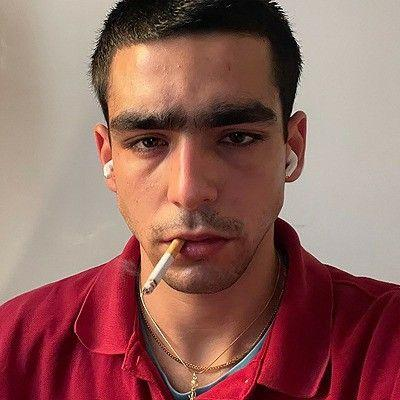cigarette: (140, 238, 186, 296)
